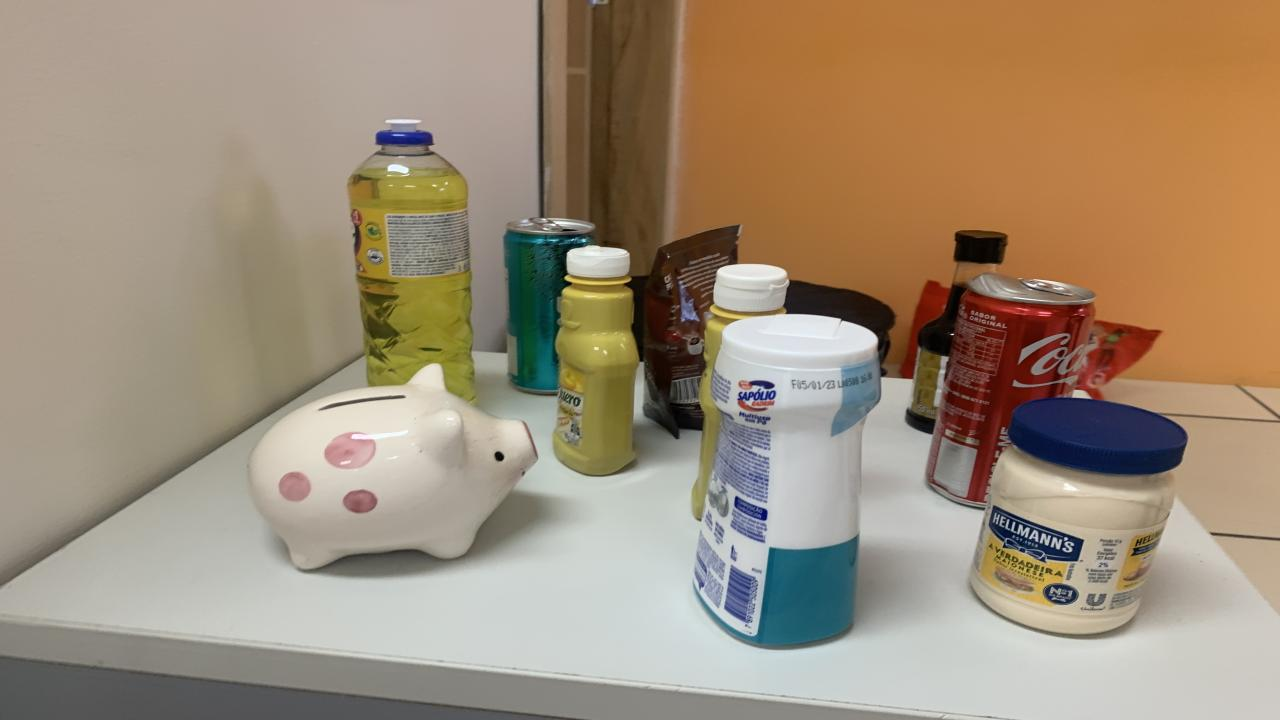Cleaner-Cleanup_Items: (692, 313, 880, 647)
Coffee-Pantry_Items: (642, 225, 740, 435)
Coke-Drinks: (910, 272, 1095, 508)
Detergent-Cleanup_Items: (348, 120, 475, 401)
English_Sauce-Pantry_Items: (905, 231, 1008, 433)
Mayonnaise-Pantry_Items: (970, 398, 1188, 634)
Mustard-Pantry_Items: (692, 264, 790, 519), (555, 246, 640, 474)
Pig_Safe-Miscellaneous: (248, 364, 538, 570)
Tea-Drinks: (502, 218, 595, 394)
